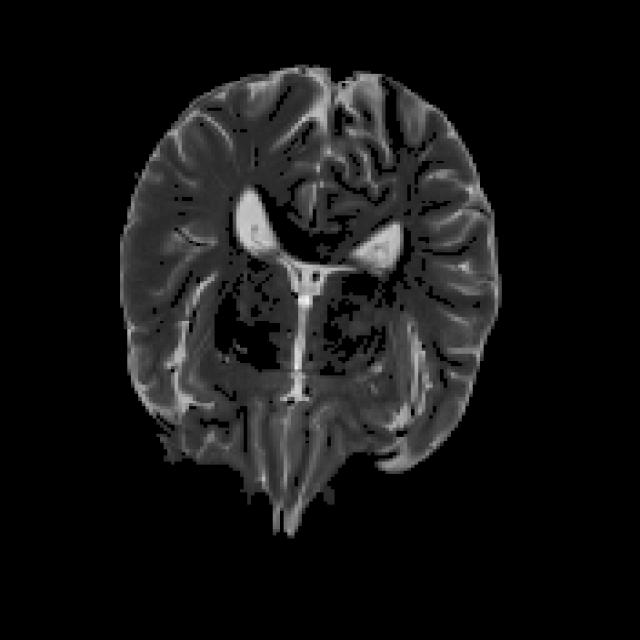parkinson: (116, 62, 502, 536)
